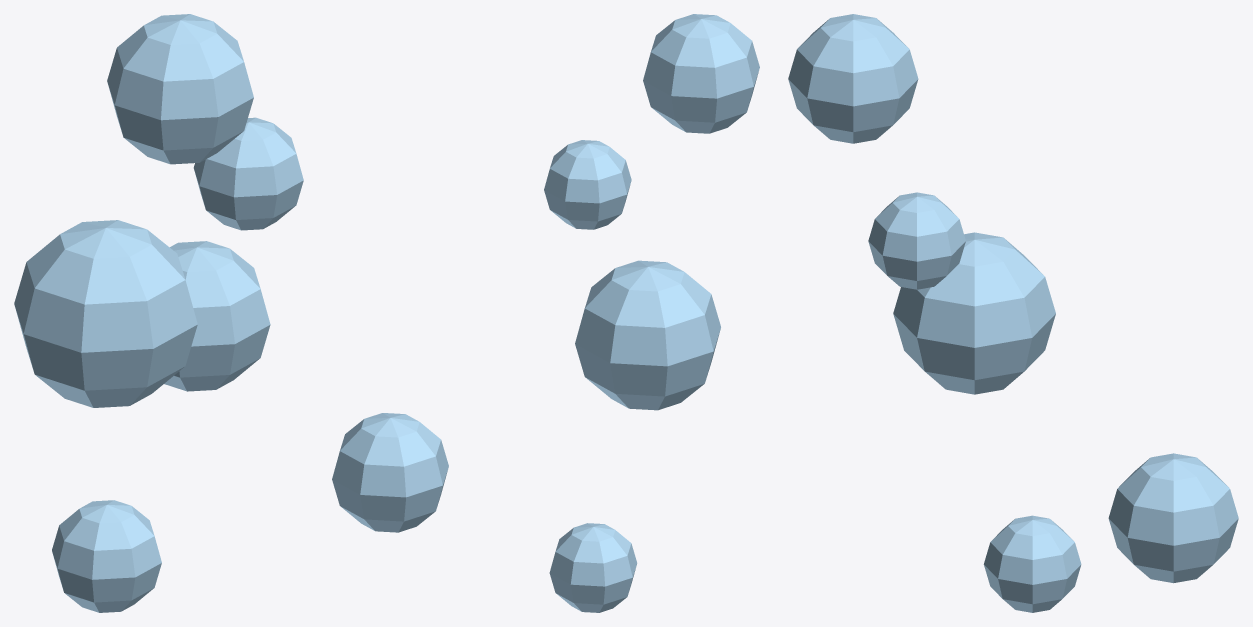
Rendered from industry_other_bubbles.glb.
3 views of the same model, side by side, from view 1: azimuth 30°, elevation 25°; view 2: azimuth 150°, elevation 25°; view 3: azimuth 270°, elevation 25° (orthographic). The views are drawn at different scales.
Bounding box in the file's own units: 4.32 × 7.8 × 5.53.
